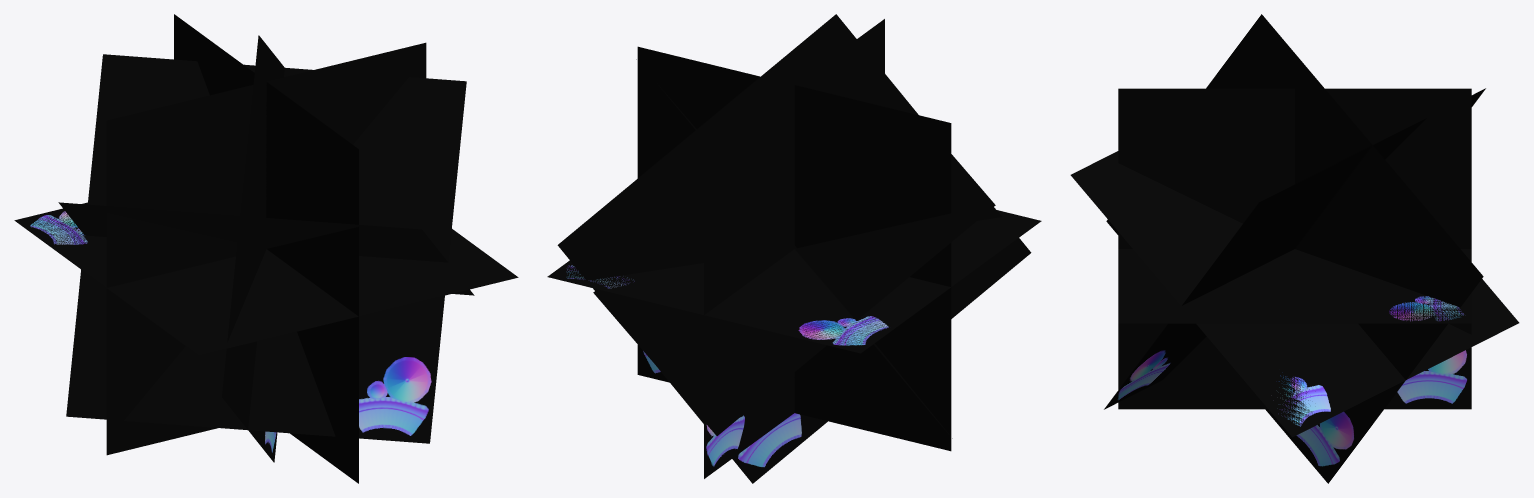
File: Nemesis_plane.fbx
3 views of the same model, side by side, from view 1: azimuth 30°, elevation 25°; view 2: azimuth 150°, elevation 25°; view 3: azimuth 270°, elevation 25° (orthographic). The views are drawn at different scales.
Parts seen in each view (by area): view 1: Char_Nemesis_plane; view 2: Char_Nemesis_plane; view 3: Char_Nemesis_plane.
Boxes of the visible parts, box(x1,y1,x2,y2) form: Char_Nemesis_plane: box(14, 14, 518, 483); Char_Nemesis_plane: box(547, 14, 1041, 483); Char_Nemesis_plane: box(1070, 14, 1519, 483).
Size of the model in its own units: 1.26 by 1.36 by 1.24.
